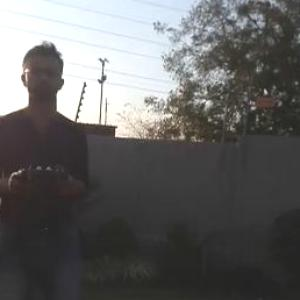follow: (0, 35, 91, 299)
